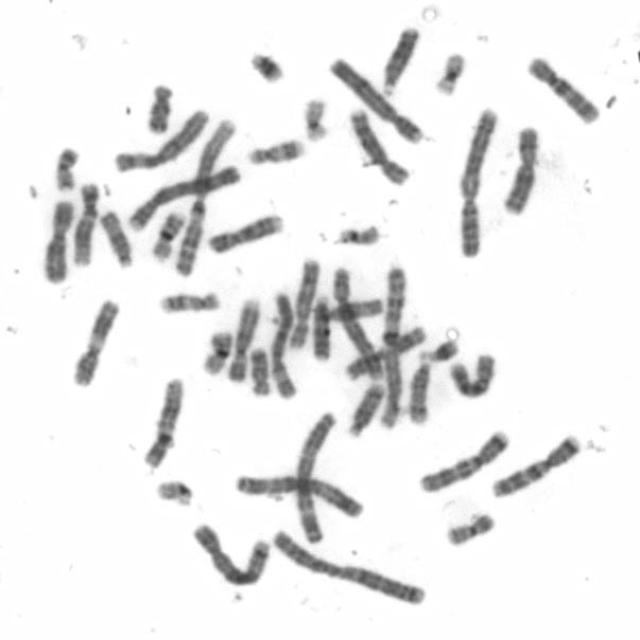A1: (170, 116, 238, 282), (377, 264, 411, 431)
A2: (265, 525, 429, 607), (452, 103, 501, 259)
A3: (230, 468, 365, 520), (290, 406, 338, 545)
B4: (326, 52, 426, 146), (122, 160, 243, 234)
B5: (331, 264, 389, 383), (190, 522, 272, 588)
C10: (524, 51, 601, 127), (444, 347, 498, 401)
C11: (342, 324, 428, 382), (68, 295, 121, 387)
C12: (139, 372, 186, 470), (68, 178, 100, 268)
C6: (109, 104, 210, 174), (266, 287, 300, 401)
C7: (484, 428, 584, 499), (414, 425, 513, 494)
C8: (346, 105, 412, 188), (286, 256, 322, 352)
C9: (204, 209, 286, 256), (224, 293, 262, 384)
D13: (377, 21, 420, 97), (310, 292, 334, 367)
D14: (344, 379, 386, 438), (404, 354, 432, 426)
D15: (96, 206, 134, 270), (320, 293, 383, 322)
E16: (146, 208, 188, 264), (196, 326, 236, 376)
E17: (243, 134, 307, 167), (156, 287, 223, 316)
E18: (141, 80, 175, 136), (246, 342, 272, 398)
F19: (430, 46, 468, 98), (297, 93, 332, 144)
F20: (440, 508, 497, 548), (50, 142, 81, 194)
G21: (243, 46, 289, 84), (416, 335, 461, 363)
G22: (333, 219, 384, 248), (152, 475, 195, 509)
X: (497, 120, 543, 216), (37, 196, 77, 284)
